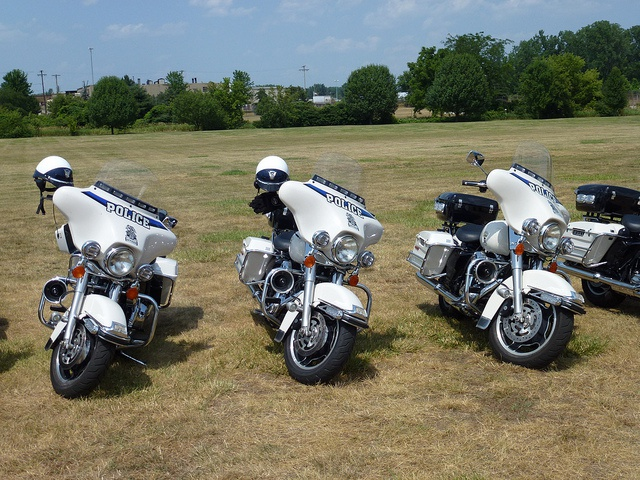non-vehicle: (403, 145, 586, 370), (32, 154, 179, 400), (234, 155, 385, 384), (558, 172, 640, 314)
